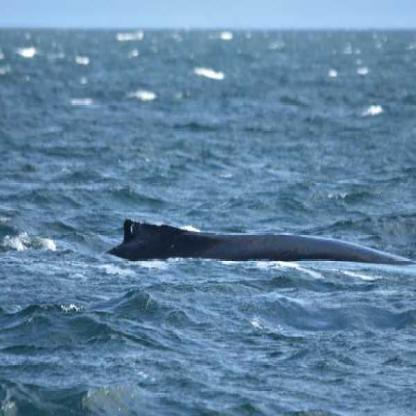dolphin-whale: (100, 215, 416, 270)
